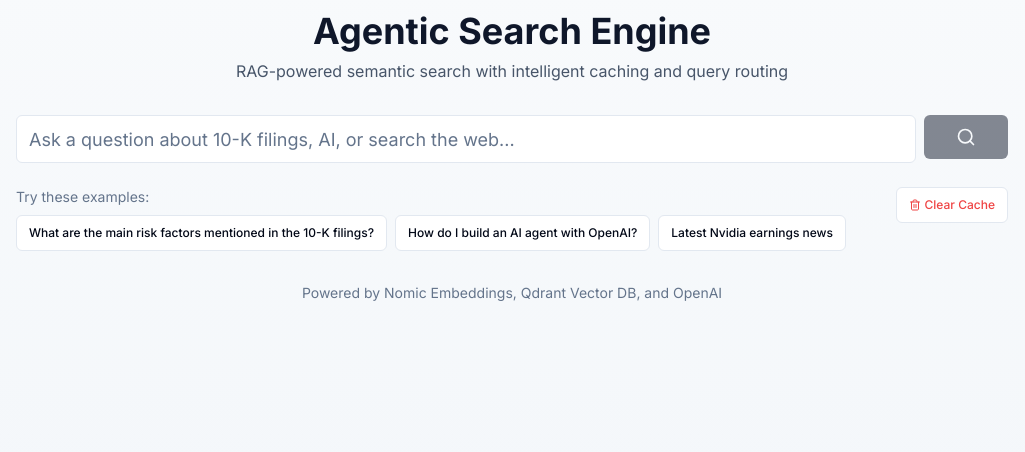
Scenario: SearchPage › Search Functionality › displays error when search fails
The image size is (1025, 452).
In the field with placeholder "Ask a question about 10-K filings, AI, or search the web...": (466, 139) [16,115,916,163], type "test query"
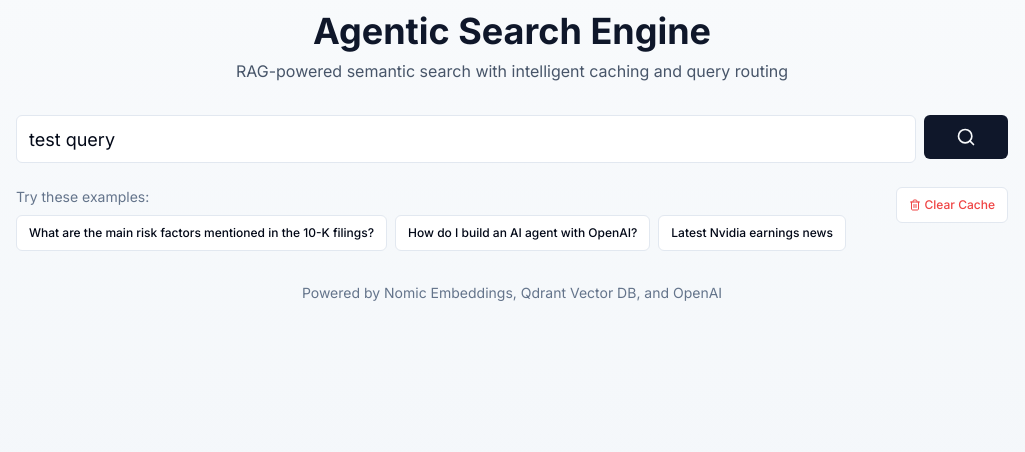
Submit the form with placeholder "ask a question", box [16,115,1008,163]
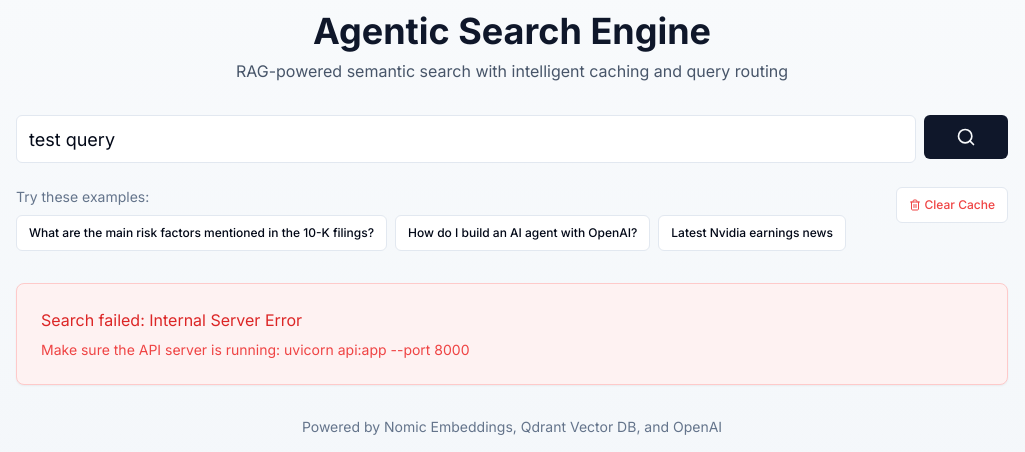
Now the text "Search failed: Internal Server Error" is shown, box [41,310,302,330]
